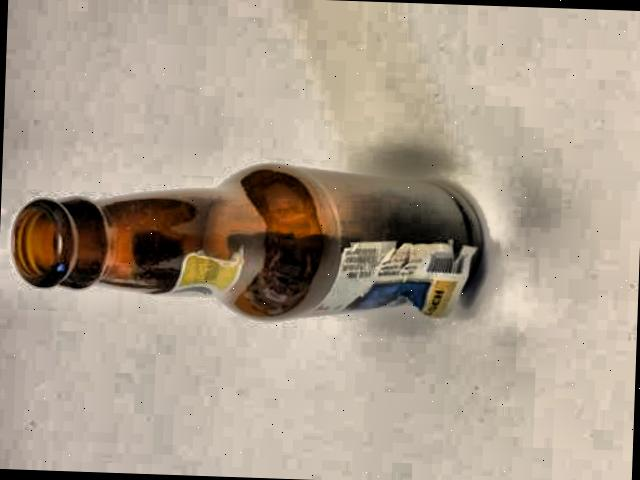Bottles: (0, 141, 497, 340)
